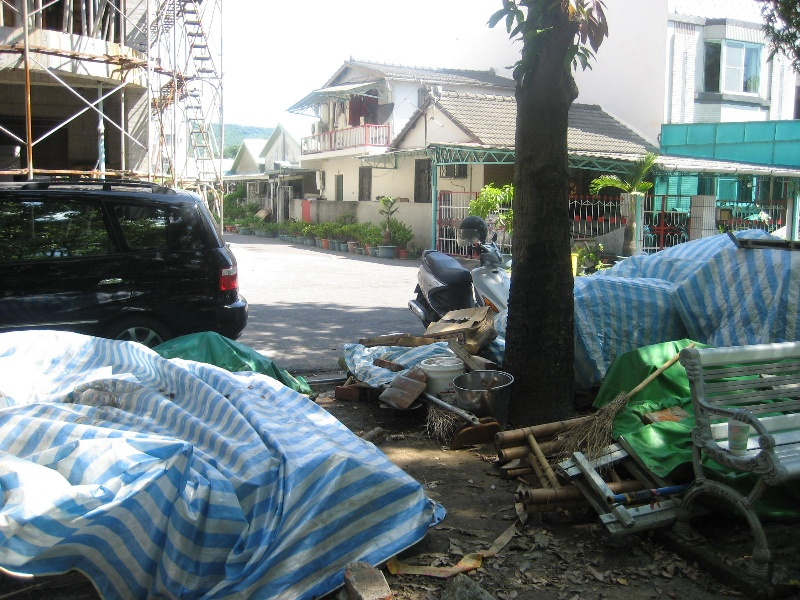bottle: (724, 415, 752, 458)
box: (420, 304, 499, 357)
bucket: (452, 368, 516, 436), (418, 355, 467, 406)
plastic_bag: (1, 329, 449, 600), (571, 227, 800, 391), (590, 337, 718, 480), (338, 341, 454, 389)
